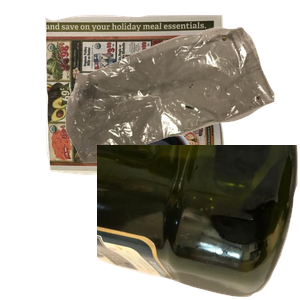glass: (115, 120, 300, 300)
paper: (42, 12, 260, 185)
plastic: (97, 145, 300, 300)
trash: (63, 24, 300, 179)
